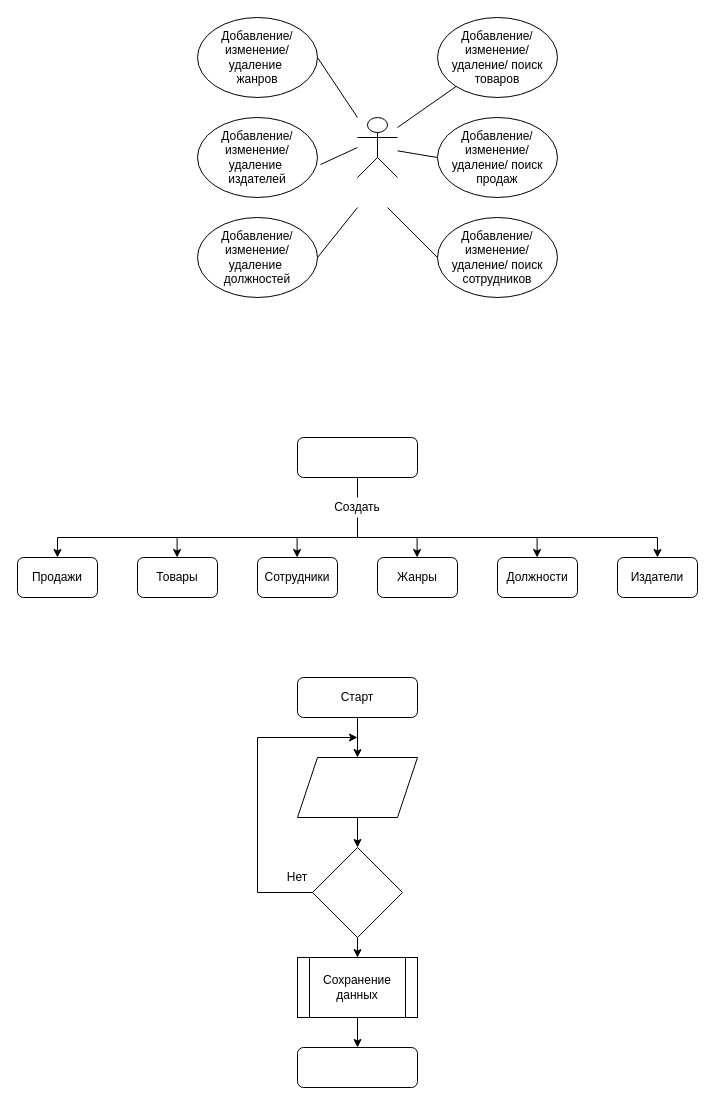
Some shapes in this 715 by 1105 pixel diagram are drawn without their labels. The shapes that lost their labels are listed below. From the top down, each one's centre as x and y in pixels, then its label:
At point (377, 147): "Actor".
At point (357, 457): "Главная".
At point (357, 787): "Ожидание нажатии кнопки сохранения".
At point (357, 892): "Заполнены все поля?".
At point (357, 1067): "Конец".
